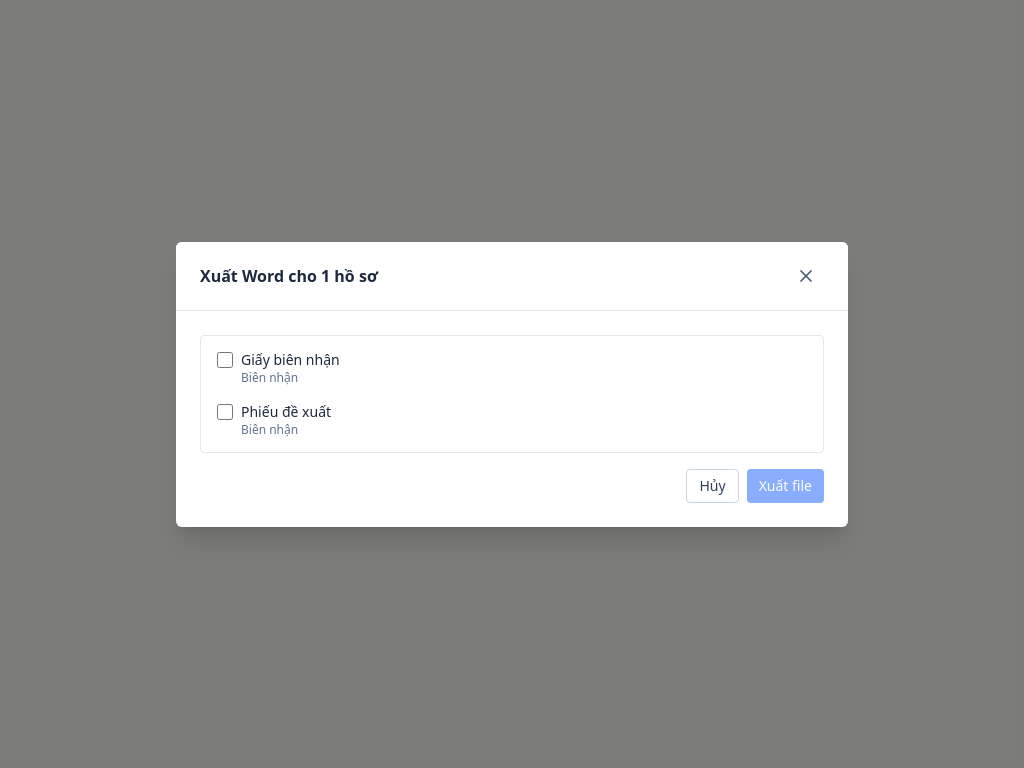
BatchExportDocumentsModal › [P2] hiện MESSAGE THẬT từ backend, không nuốt thành "kiểm tra kết nối"
Click the checkbox with test id "batch-export-checkbox-t1" at (225, 360), box x1=217 y1=352 x2=233 y2=368
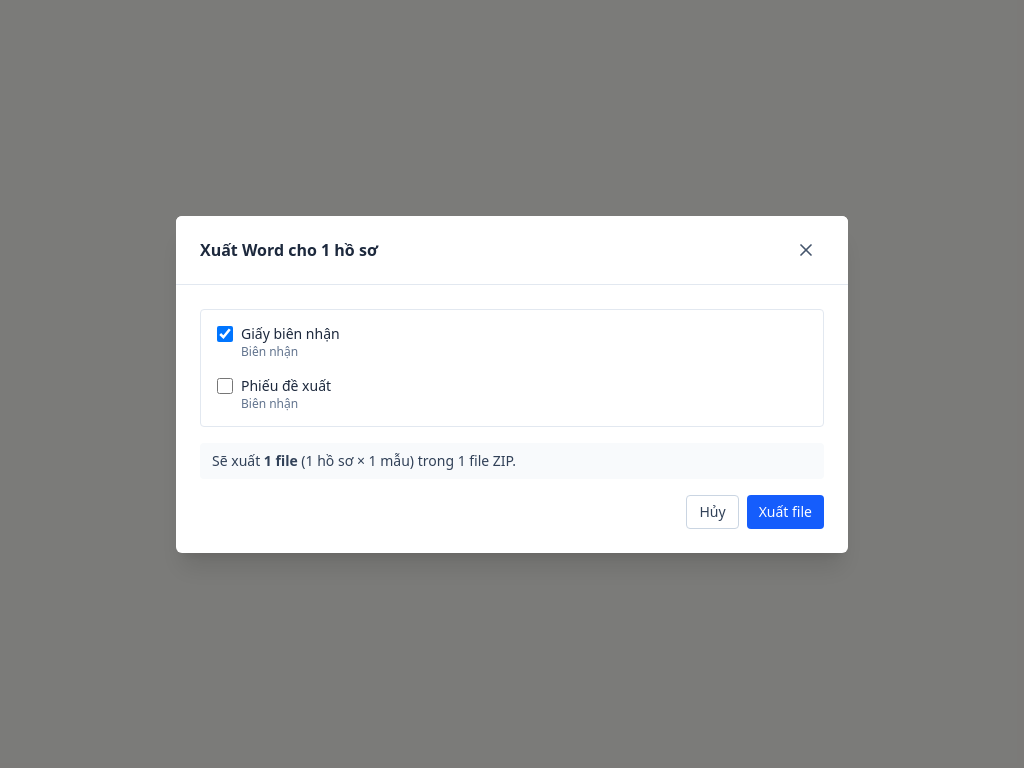
Click the button with test id "batch-export-confirm" at (785, 512), box x1=747 y1=494 x2=824 y2=528
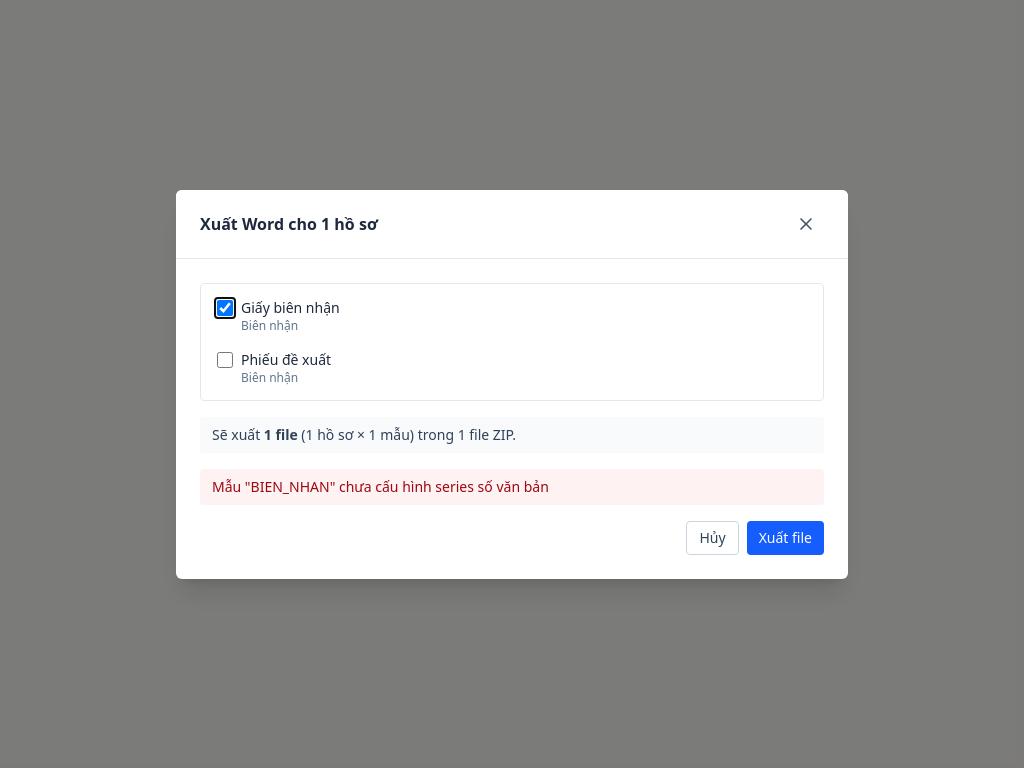
Result: the text with test id "batch-export-error" shows "chưa cấu hình series" at x1=212 y1=476 x2=549 y2=496
